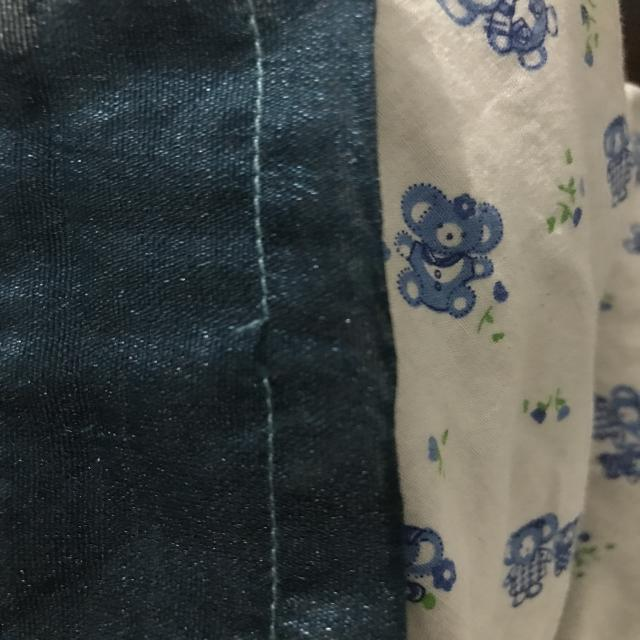broken: (222, 304, 298, 394)
good: (229, 158, 279, 268)
